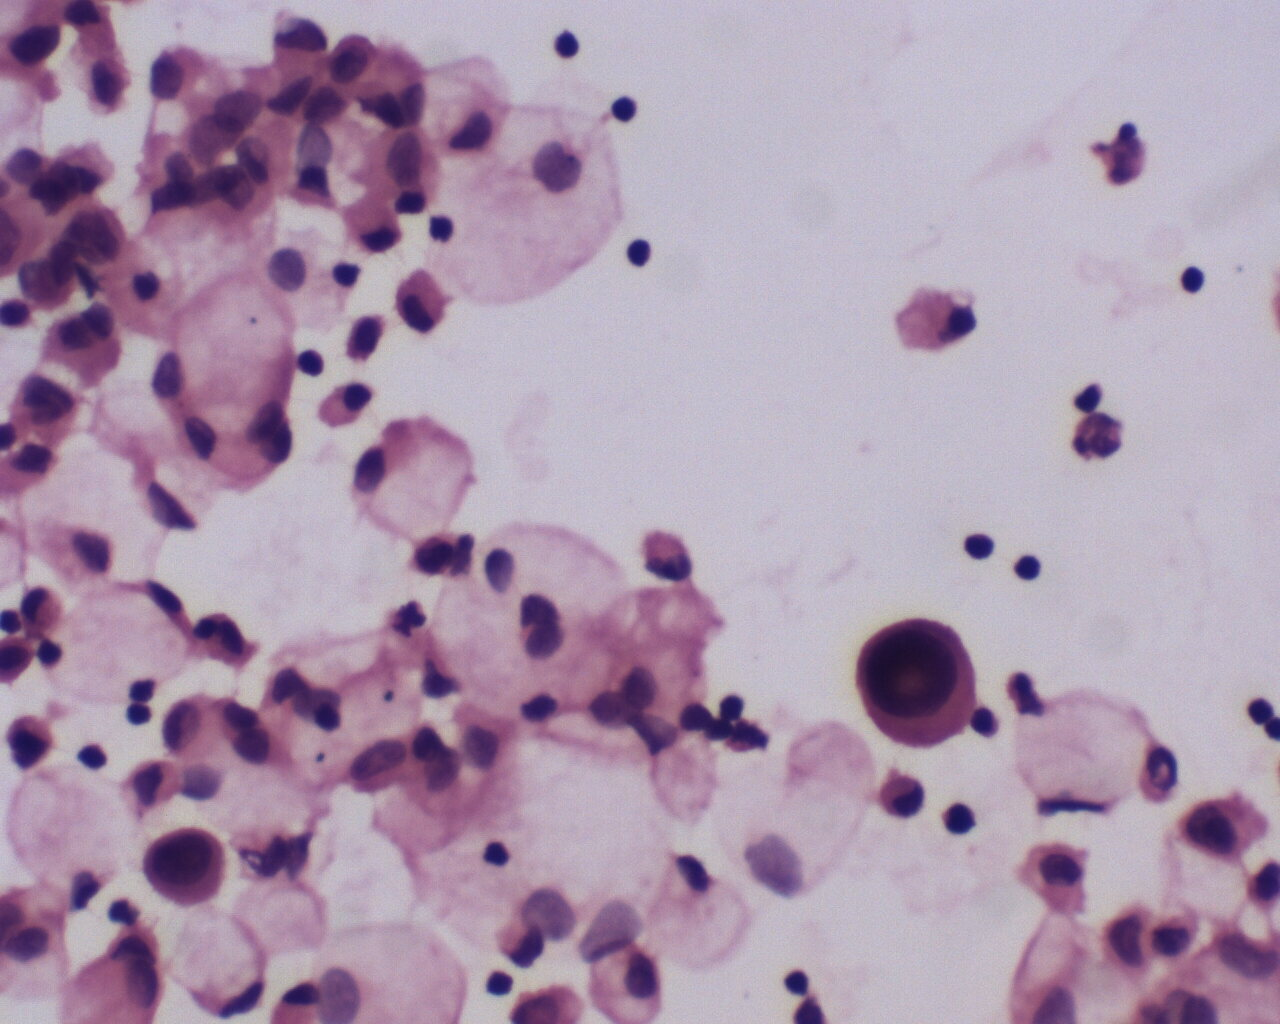ab: (850, 616, 980, 747), (139, 829, 229, 911)
histo: (38, 583, 194, 704), (1016, 682, 1159, 815), (343, 411, 475, 539), (589, 941, 672, 1024)
lymph: (607, 89, 649, 131), (548, 24, 596, 59), (962, 523, 998, 566), (1009, 551, 1047, 588), (623, 234, 656, 273), (1179, 262, 1210, 297)
meso: (389, 265, 450, 338)
